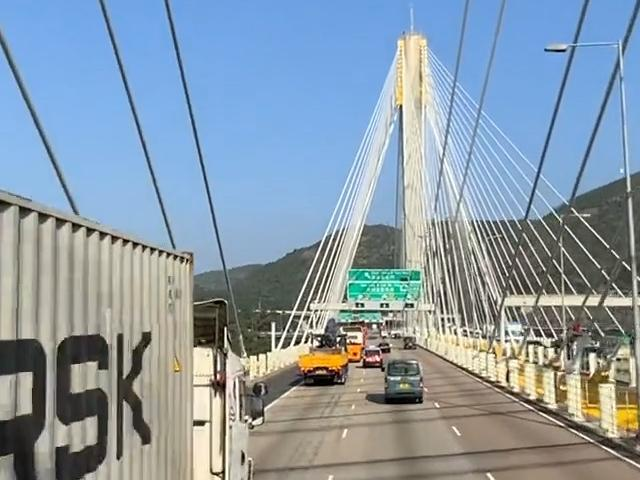truck: (0, 0, 272, 480), (287, 310, 357, 404)
van: (370, 357, 433, 405)
